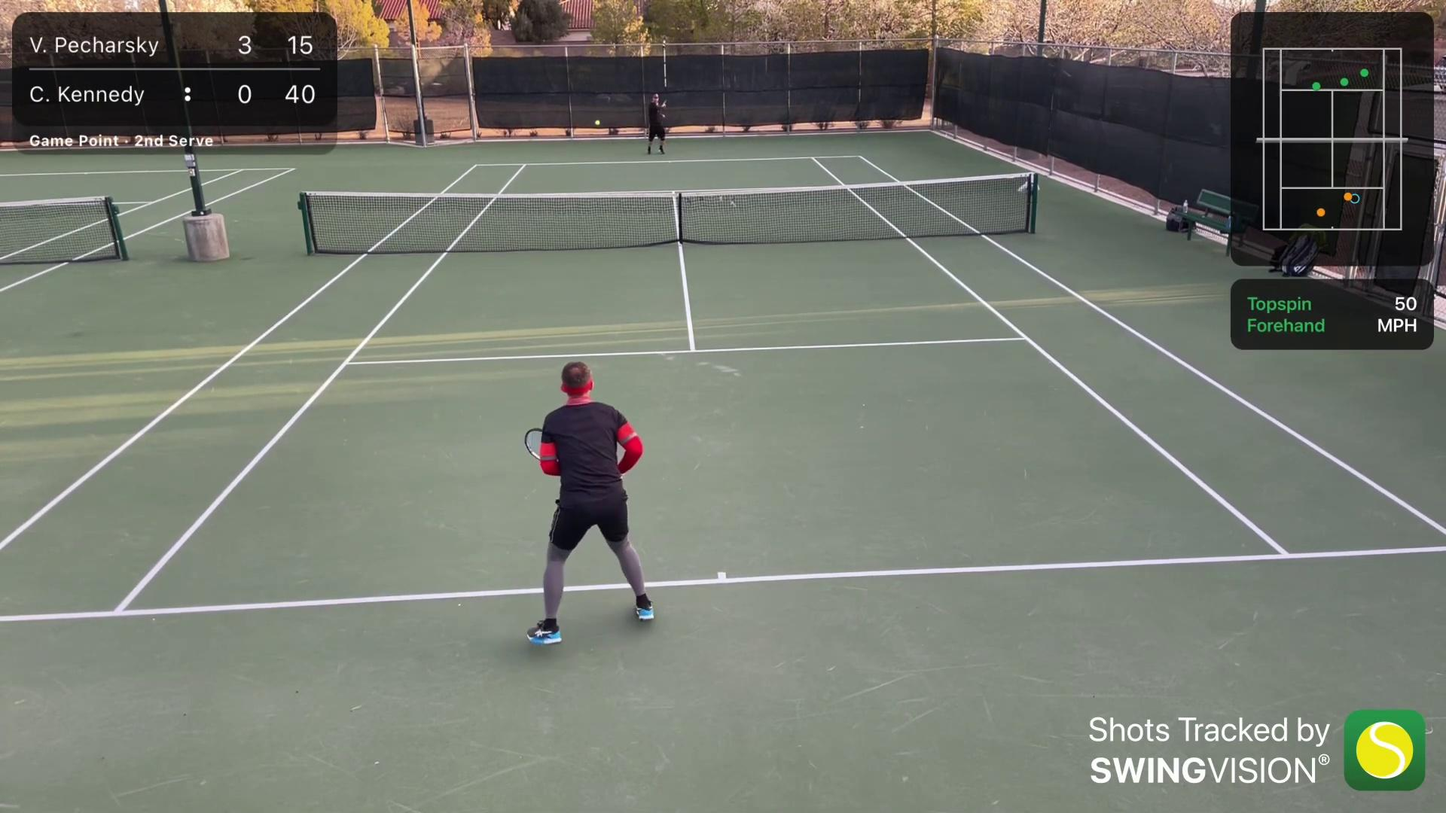ball: (593, 120, 600, 127)
